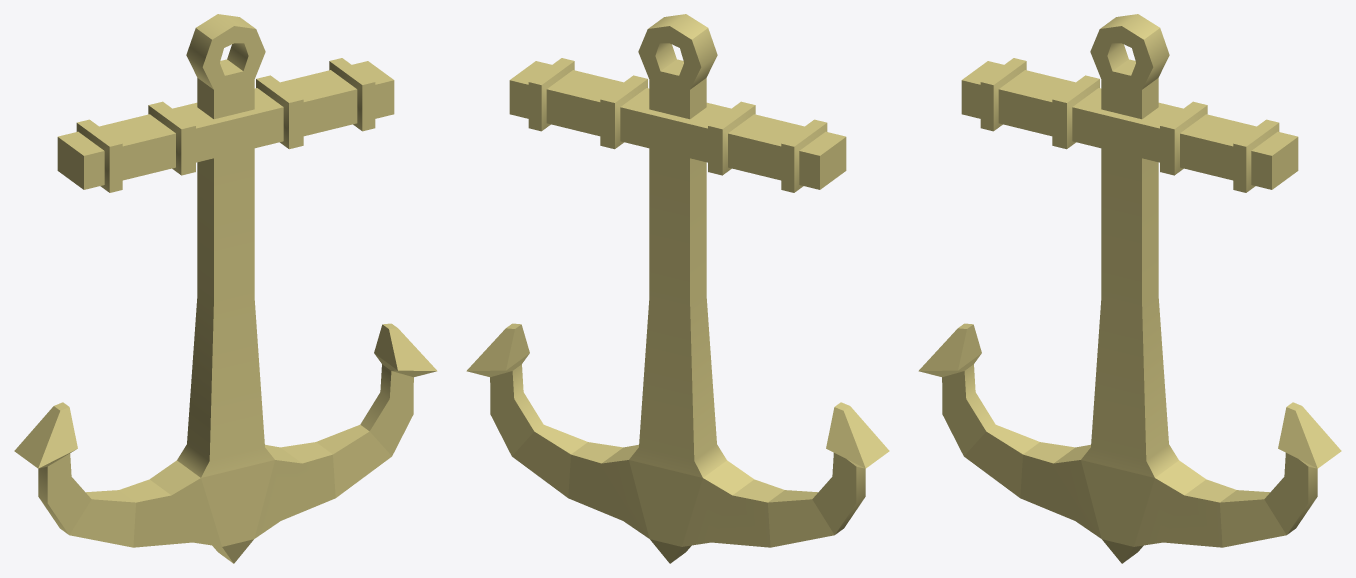
The model's file is Anchor_Mark.fbx.
3 views of the same model, side by side, from view 1: azimuth 30°, elevation 25°; view 2: azimuth 150°, elevation 25°; view 3: azimuth 330°, elevation 25° (orthographic).
Parts seen in each view (by area): view 1: SM_Prop_Anchor_01; view 2: SM_Prop_Anchor_01; view 3: SM_Prop_Anchor_01.
Part boxes in pixels (box(x1,y1,x2,y2)): SM_Prop_Anchor_01: box(14, 14, 437, 563); SM_Prop_Anchor_01: box(466, 14, 889, 563); SM_Prop_Anchor_01: box(918, 14, 1341, 563).
Bounding box in the file's own units: 1.14 × 1.47 × 0.1639.
